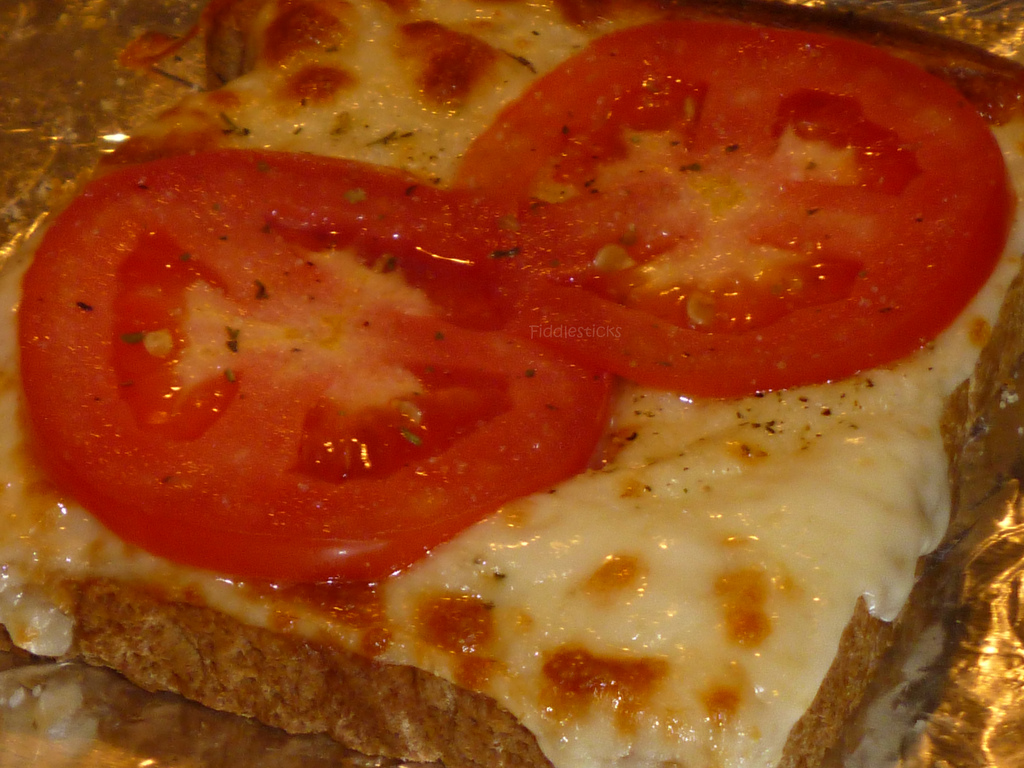slice of bread: (59, 569, 928, 762)
